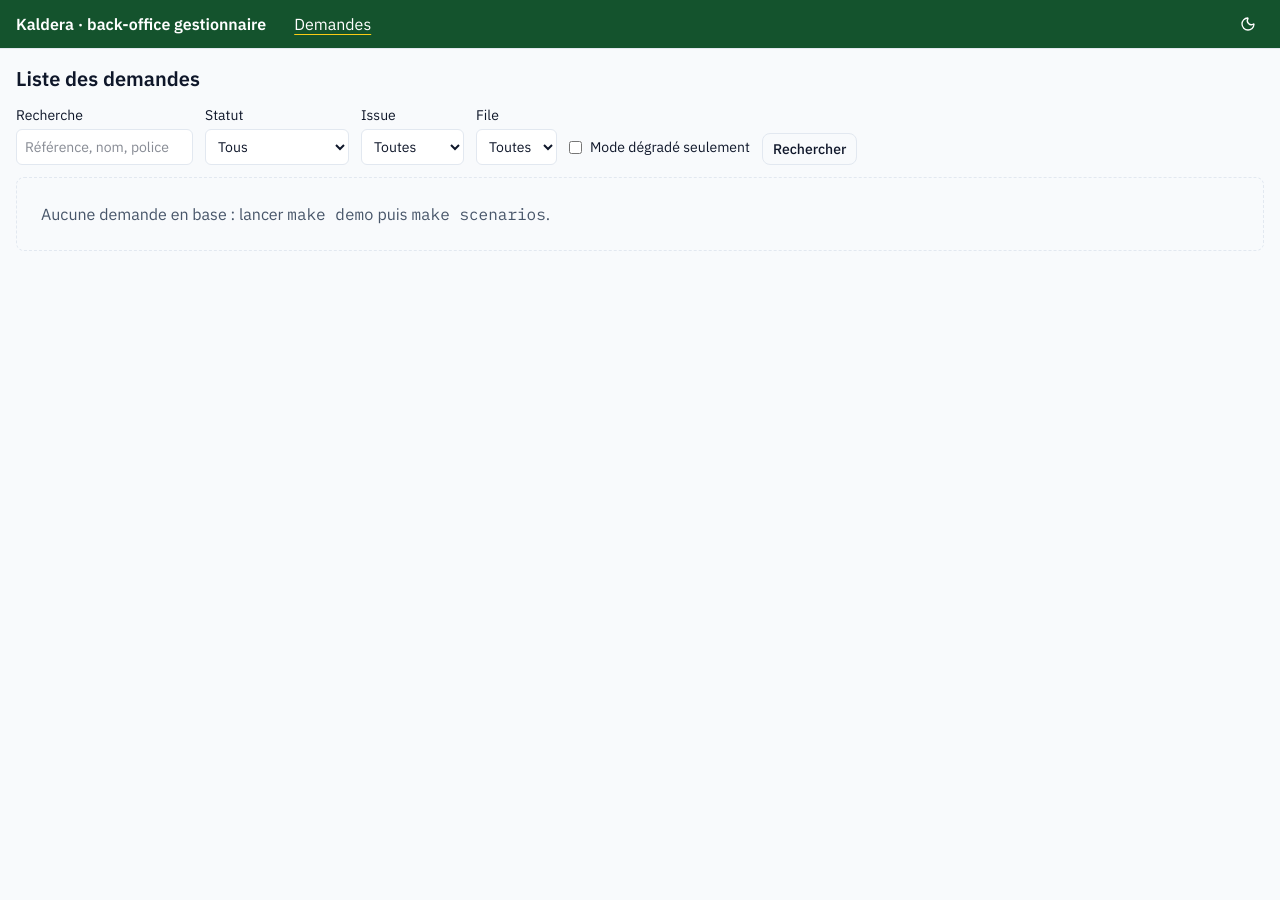
Scenario: socle › le bouton de thème bascule et change son libellé
Click the button named "Passer au thème sombre": (1248, 24) [1232,8,1264,40]
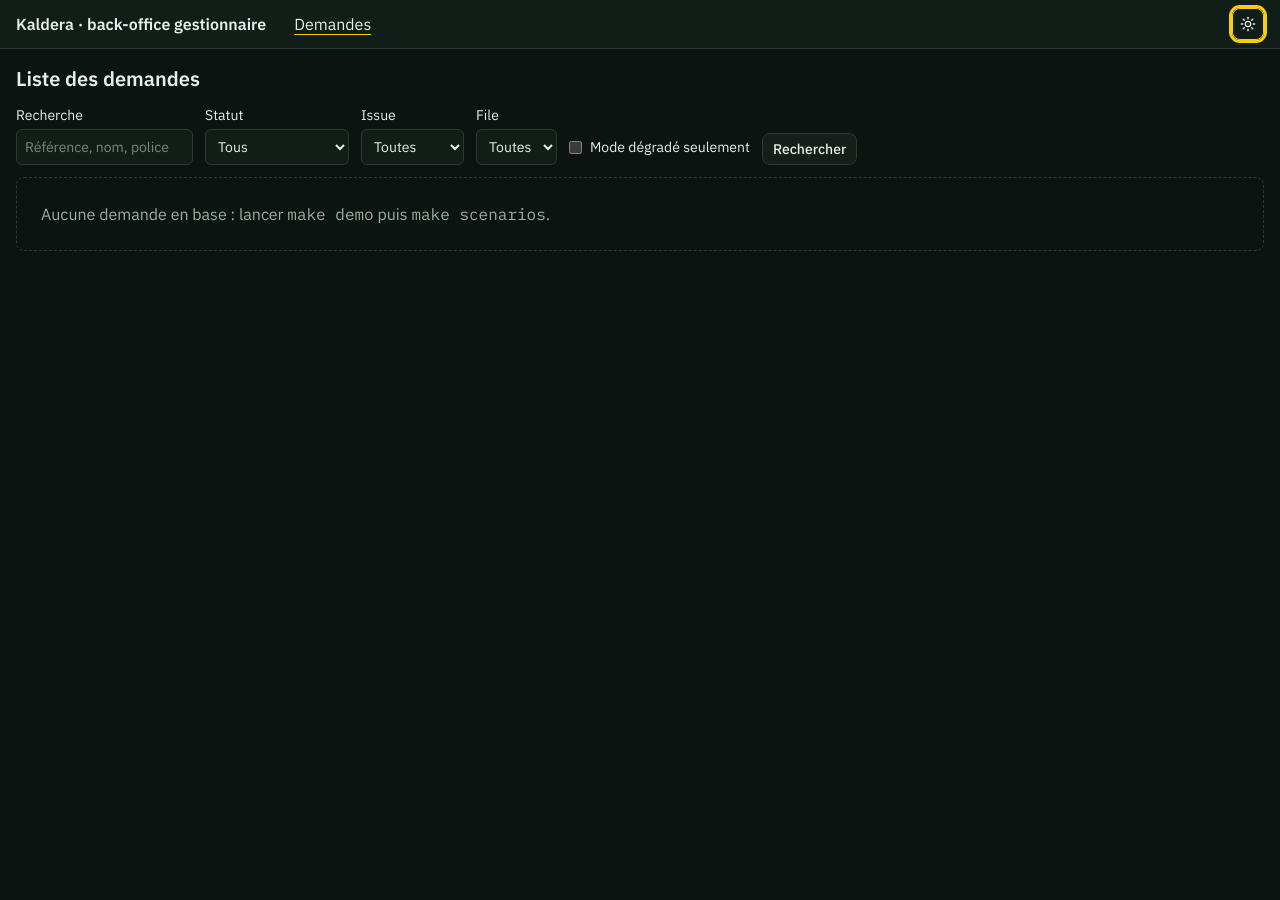
Expected: the button named "Passer au thème clair" is shown, [1232,8,1264,40]
